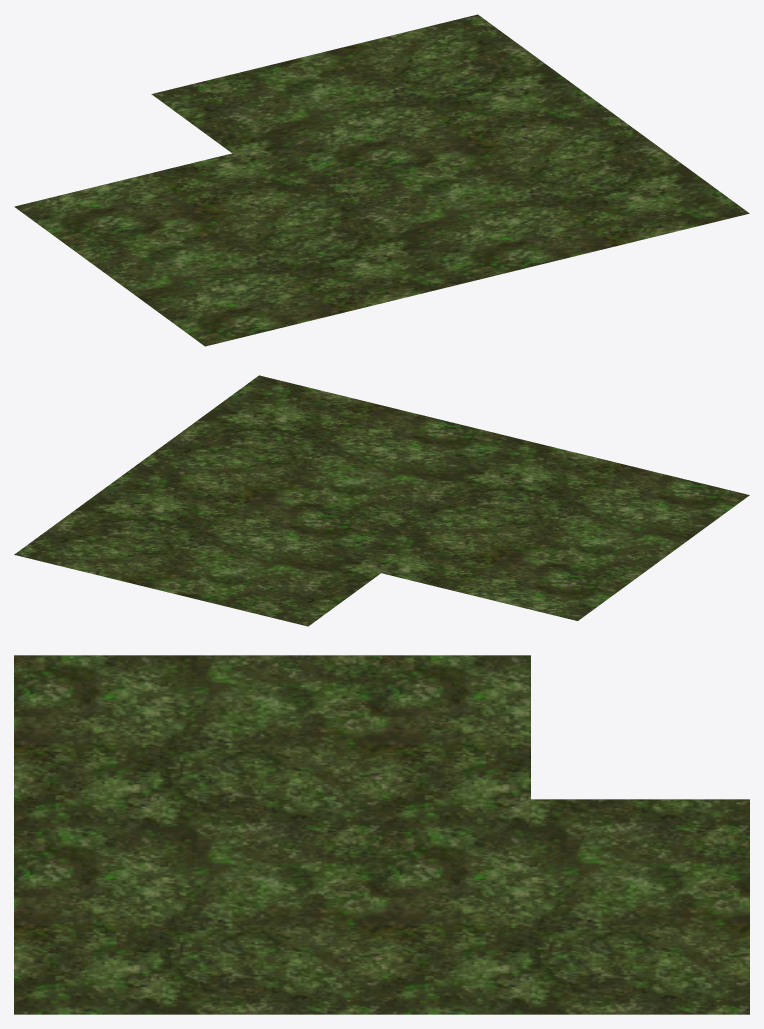
File: OVERHILL_A_01_LINE179.fbx
The picture shows the model from 3 angles, top to bottom: view 1: azimuth 30°, elevation 25°; view 2: azimuth 150°, elevation 25°; view 3: azimuth 270°, elevation 25°; orthographic projection. The views are drawn at different scales.
Parts seen in each view (by area): view 1: OVERHILL_A_01_LINE179; view 2: OVERHILL_A_01_LINE179; view 3: OVERHILL_A_01_LINE179.
Part boxes in pixels (bbox=[...]): OVERHILL_A_01_LINE179: bbox=[14, 14, 749, 346]; OVERHILL_A_01_LINE179: bbox=[14, 375, 749, 626]; OVERHILL_A_01_LINE179: bbox=[14, 655, 749, 1014].
Bounding box in the file's own units: 57986 × 0.0122 × 50148.
Materials: 1 (1 with a texture image).
